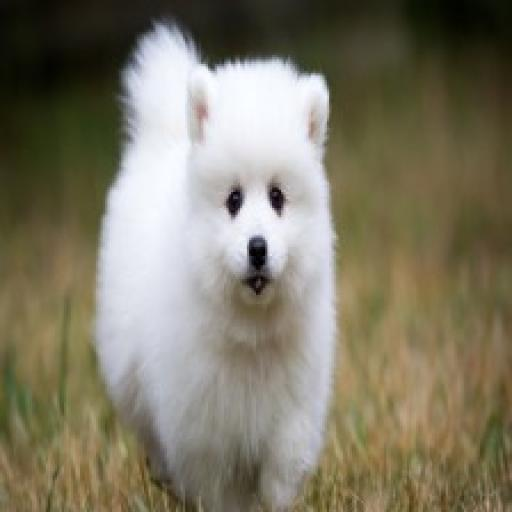dog: (92, 11, 338, 512)
